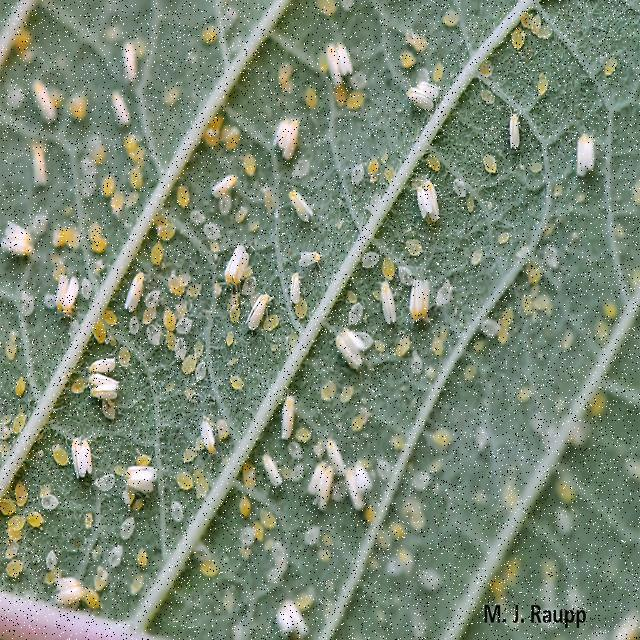Whiteflies: (562, 121, 622, 207), (334, 310, 384, 392), (395, 164, 451, 237), (274, 163, 317, 247), (269, 352, 306, 447), (399, 274, 447, 343), (315, 38, 368, 96), (21, 137, 72, 197), (111, 450, 164, 503), (497, 92, 536, 164), (267, 102, 309, 168), (1, 222, 52, 275), (273, 257, 312, 325), (369, 265, 401, 345), (258, 447, 297, 510), (117, 40, 157, 100), (120, 255, 155, 323), (45, 258, 82, 322), (404, 68, 445, 125), (204, 161, 244, 219), (345, 459, 380, 525), (238, 283, 280, 336), (82, 372, 127, 418), (65, 429, 100, 488), (24, 74, 59, 133), (321, 438, 359, 488), (225, 241, 262, 291), (286, 229, 322, 277), (106, 93, 146, 135), (184, 416, 223, 459), (305, 467, 336, 519), (85, 339, 120, 379)
